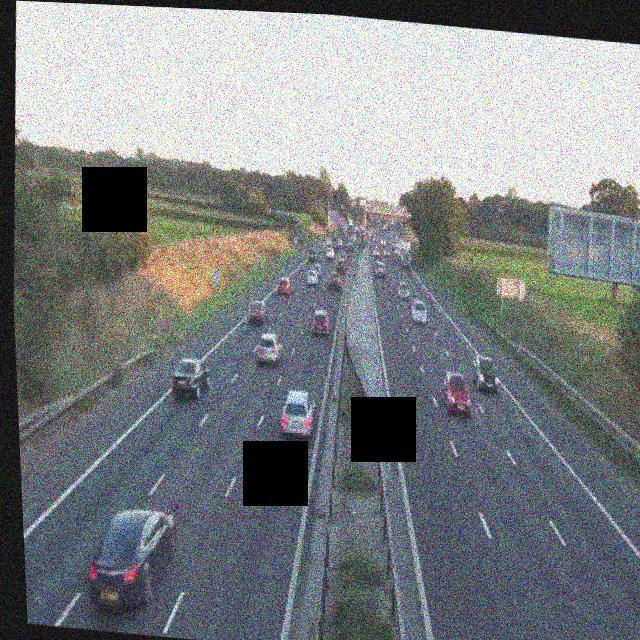car: (84, 502, 180, 614), (169, 357, 212, 404), (279, 388, 317, 440), (441, 372, 473, 416), (470, 354, 499, 392), (254, 332, 283, 366), (310, 308, 330, 337), (247, 301, 268, 325), (411, 298, 428, 323), (277, 276, 293, 296), (396, 280, 411, 301), (326, 270, 341, 290), (305, 267, 319, 286), (374, 261, 386, 279), (307, 245, 319, 262), (334, 260, 347, 275), (374, 249, 383, 259)
truck: (396, 241, 411, 267)
